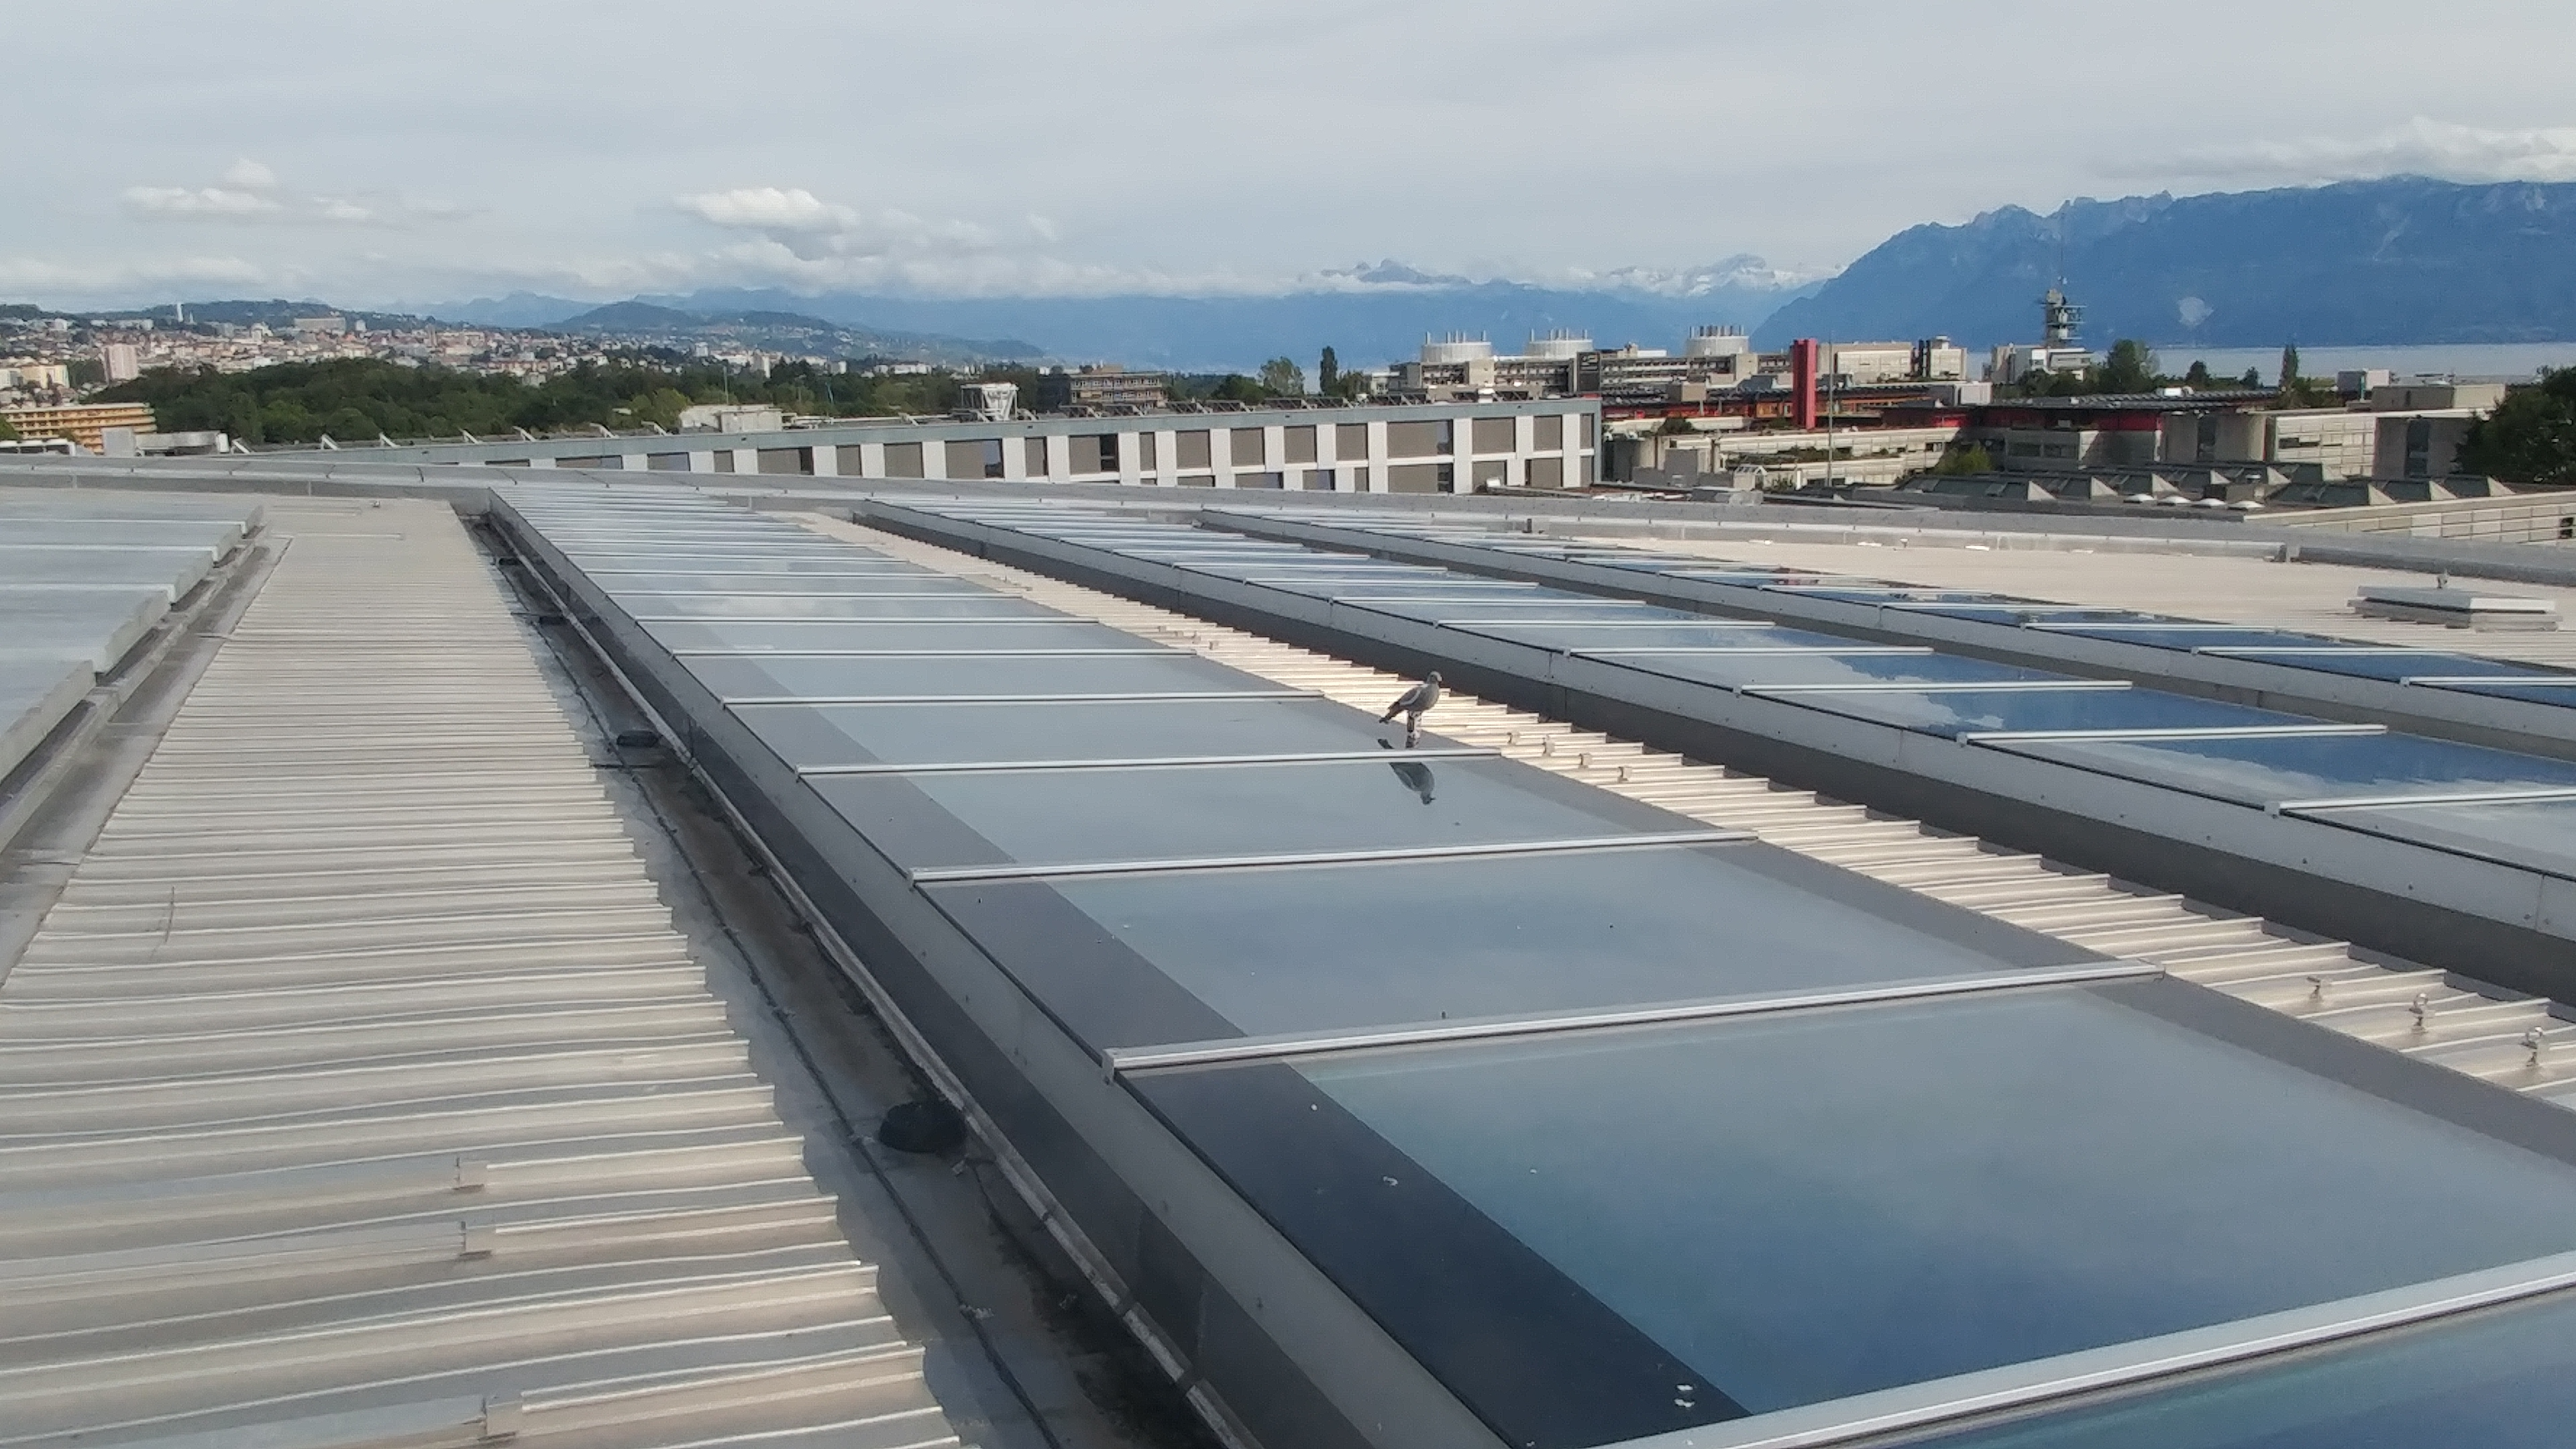Pigeon: (1376, 663, 1453, 743)
